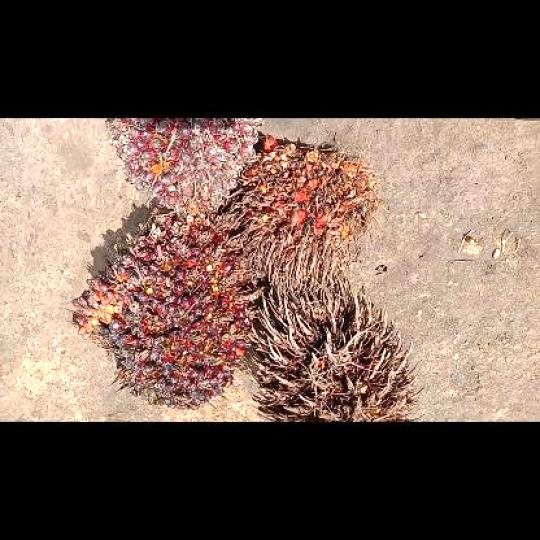kurang masak: (102, 118, 261, 218)
masak: (71, 208, 259, 412)
terlalu masak: (228, 132, 380, 283)
